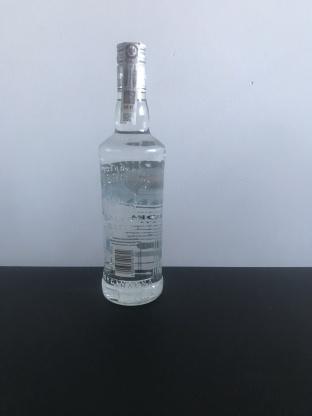nakretka: (114, 37, 148, 95)
